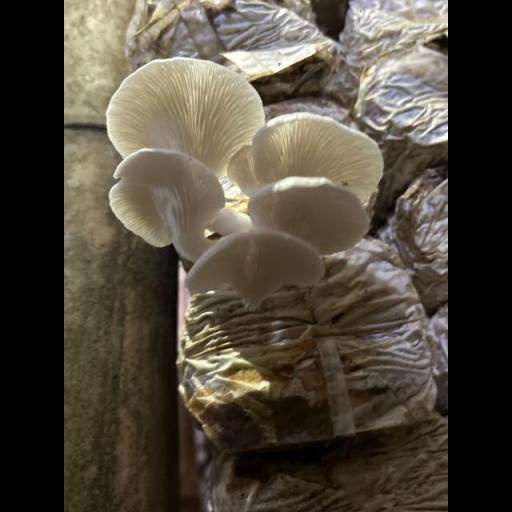White Oyster Mushroom: (109, 58, 384, 300)
